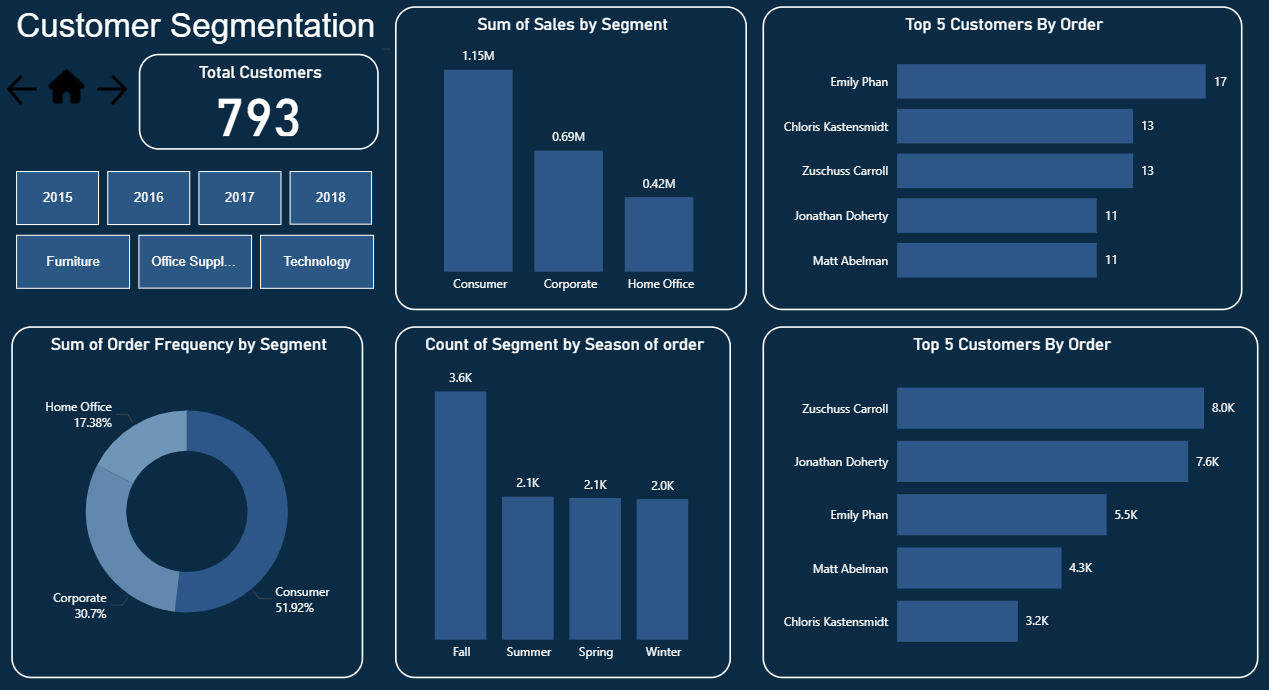

The page's visual inventory and layout, read from the dashboard file:
{"tool":"powerbi","page":{"name":"Customer Segmentation","canvas":[1280,720],"ordinal":2},"visuals":[{"type":"clusteredColumnChart","fields":{"Y":["Sum(Final-project by Excel.Sales)"],"Category":["Final-project by Excel.Segment"]},"box":[400,16,352,304],"z":0},{"type":"columnChart","fields":{"Category":["Final-project by Excel.Season of order"],"Y":["CountNonNull(Final-project by Excel.Segment)"]},"box":[400,336,336,352],"z":1000},{"type":"donutChart","fields":{"Category":["Final-project by Excel.Segment"],"Y":["Sum(Final-project by Excel.Order Frequency)"]},"box":[16,336,352,352],"z":2000},{"type":"card","title":"Total Customers","fields":{"Values":["Count(Final-project by Excel.Customer ID)"]},"box":[144,64,240,96],"z":3000},{"type":"clusteredBarChart","title":"Top 5 Customers By Order","fields":{"Category":["Final-project by Excel.Customer Name"],"Y":["Count(Final-project by Excel.Order ID)"]},"box":[768,16,480,304],"z":4000},{"type":"textbox","title":"Customer Segmentation","box":[16,16,384,48],"z":5000},{"type":"advancedSlicerVisual","fields":{"Values":["Final-project by Excel.Order Date.Variation.Date Hierarchy.Year"]},"box":[16,176,368,64],"z":6000},{"type":"clusteredBarChart","title":"Top 5 Customers By Order","fields":{"Category":["Final-project by Excel.Customer Name"],"Y":["Sum(Final-project by Excel.Sales)"]},"box":[768,336,496,352],"z":7000},{"type":"advancedSlicerVisual","fields":{"Values":["Final-project by Excel.Category"]},"box":[16,240,368,64],"z":8000},{"type":"actionButton","box":[96,80,40,40],"z":9000},{"type":"actionButton","box":[48,72,48,48],"z":10000},{"type":"actionButton","box":[8,80,48,40],"z":11000}]}

Visuals, with their boxes in screenshot pixels (x1, y1, x2, y2):
clusteredColumnChart - Sum(Final-project by Excel.Sales) x Final-project by Excel.Segment: (392,16,738,314)
columnChart - Final-project by Excel.Season of order x CountNonNull(Final-project by Excel.Segment): (392,330,722,675)
donutChart - Final-project by Excel.Segment x Sum(Final-project by Excel.Order Frequency): (16,330,361,675)
"Total Customers" card: (141,63,377,157)
"Top 5 Customers By Order" clusteredBarChart: (753,16,1224,314)
"Customer Segmentation" textbox: (16,16,392,63)
advancedSlicerVisual - Final-project by Excel.Order Date.Variation.Date Hierarchy.Year: (16,173,377,235)
"Top 5 Customers By Order" clusteredBarChart: (753,330,1240,675)
advancedSlicerVisual - Final-project by Excel.Category: (16,235,377,298)
actionButton: (94,78,133,118)
actionButton: (47,71,94,118)
actionButton: (8,78,55,118)
